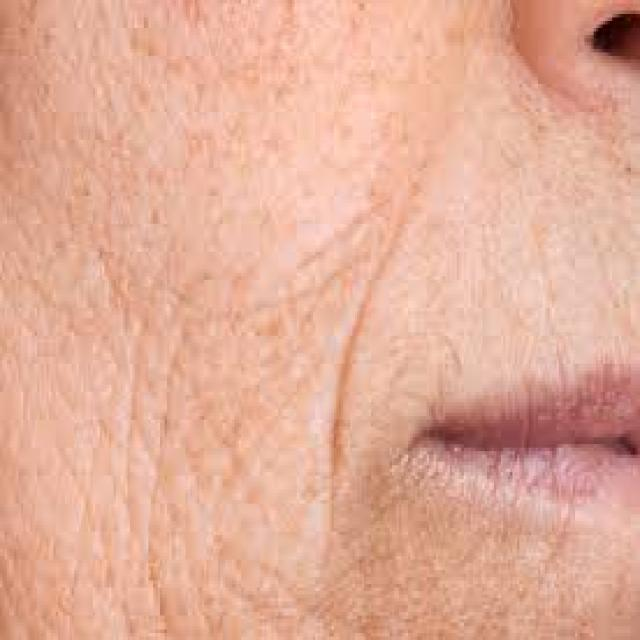Wrinkles: (63, 189, 381, 637), (326, 124, 444, 557)
